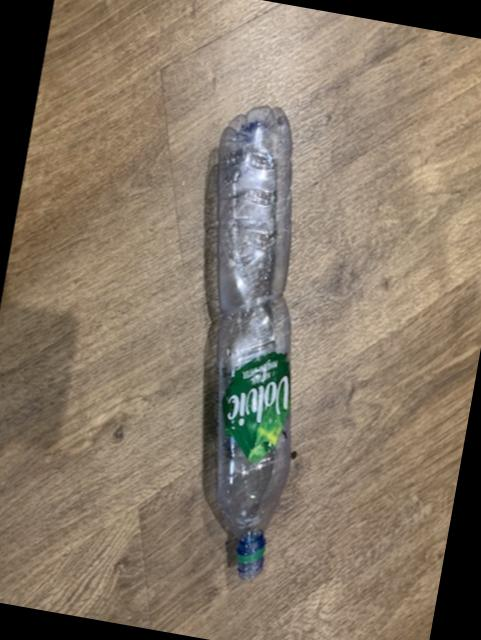plastic: (215, 103, 289, 575)
